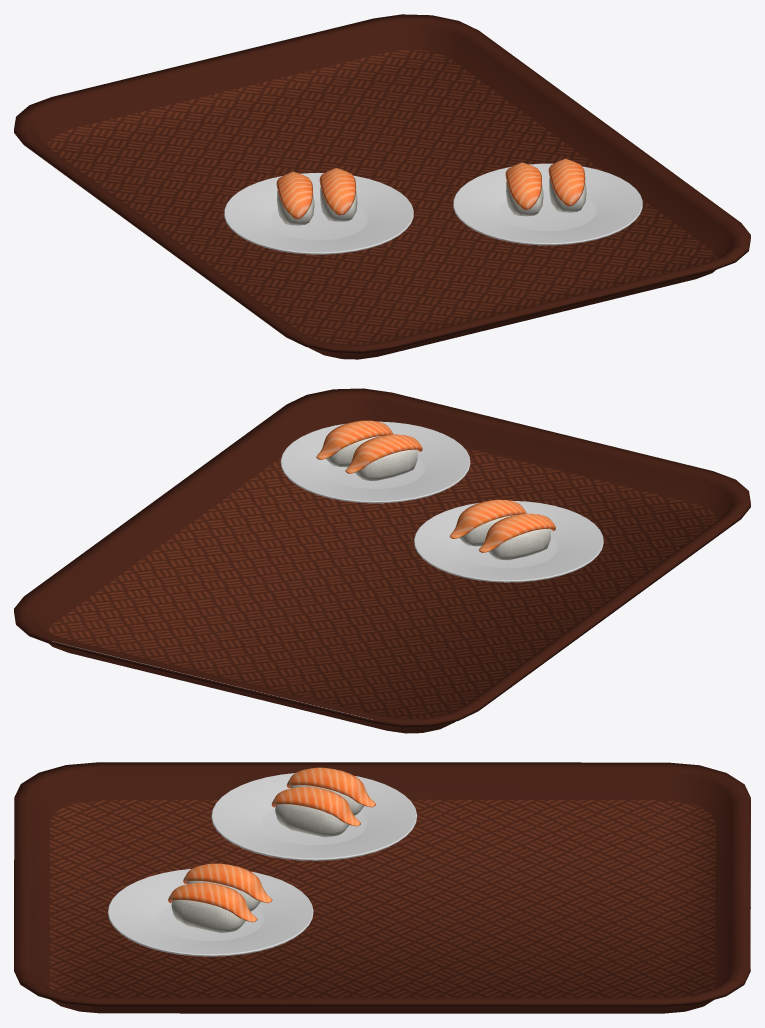
The model's file is tray.fbx.
3 renders of one model, top to bottom at view 1: azimuth 30°, elevation 25°; view 2: azimuth 150°, elevation 25°; view 3: azimuth 270°, elevation 25°, orthographic. The views are drawn at different scales.
Visible parts, largest first — view 1: Cube, plate.001, plate, sushi_salmon, sushi_salmon.001; view 2: Cube, plate.001, plate, sushi_salmon.001, sushi_salmon; view 3: Cube, plate, plate.001, sushi_salmon.001, sushi_salmon.
Boxes of the visible parts, box(x1,y1,x2,y2) form: Cube: box(14, 14, 750, 359); plate.001: box(453, 163, 642, 245); plate: box(224, 173, 413, 254); sushi_salmon: box(276, 168, 357, 225); sushi_salmon.001: box(505, 158, 586, 216); Cube: box(14, 388, 750, 733); plate.001: box(280, 421, 470, 503); plate: box(414, 500, 603, 582); sushi_salmon.001: box(316, 420, 422, 481); sushi_salmon: box(449, 499, 555, 560); Cube: box(14, 762, 750, 1013); plate: box(211, 773, 417, 860); plate.001: box(108, 869, 313, 956); sushi_salmon.001: box(168, 863, 272, 933); sushi_salmon: box(271, 767, 375, 837).
Bounding box in the file's own units: 1701 × 265 × 2201.
